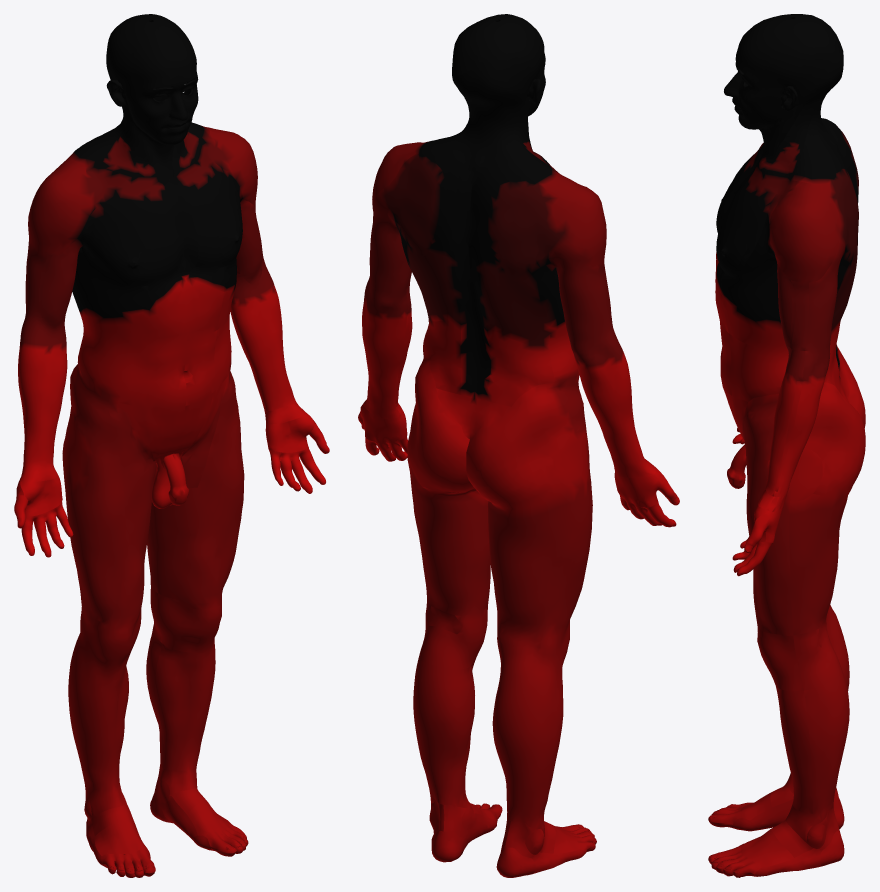
The model's file is pele.m.glb.
3 renders of one model, left to right at view 1: azimuth 30°, elevation 25°; view 2: azimuth 150°, elevation 25°; view 3: azimuth 270°, elevation 25°, orthographic.
Parts seen in each view (by area): view 1: Pele; view 2: Pele; view 3: Pele.
Boxes of the visible parts, left/top/right/bottom form: Pele: left=14, top=14, right=329, bottom=877; Pele: left=358, top=14, right=679, bottom=877; Pele: left=708, top=14, right=865, bottom=877.
Size of the model in its own units: 0.6796 by 1.71 by 0.2939.
